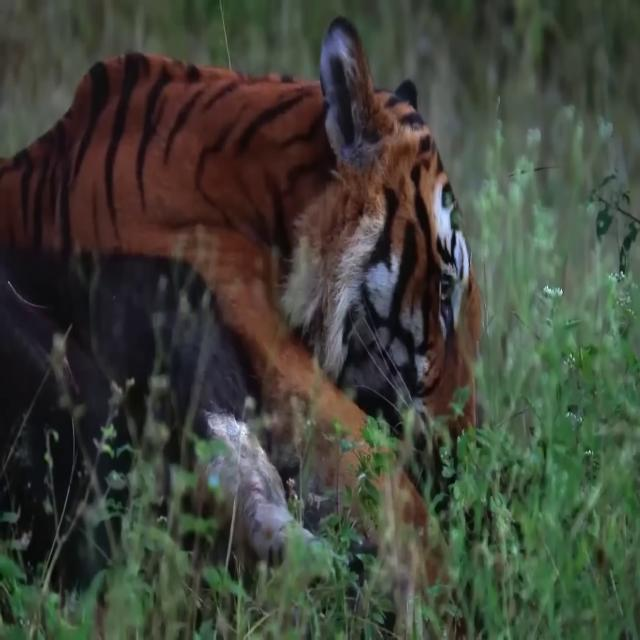tiger: (1, 15, 480, 640)
